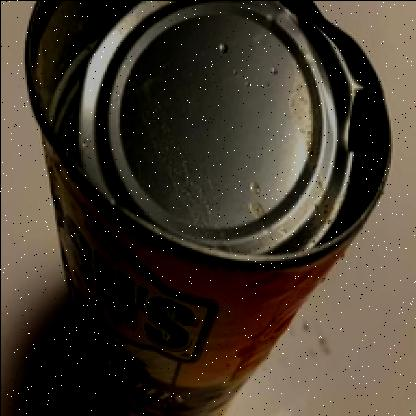Can: (22, 0, 393, 416)
